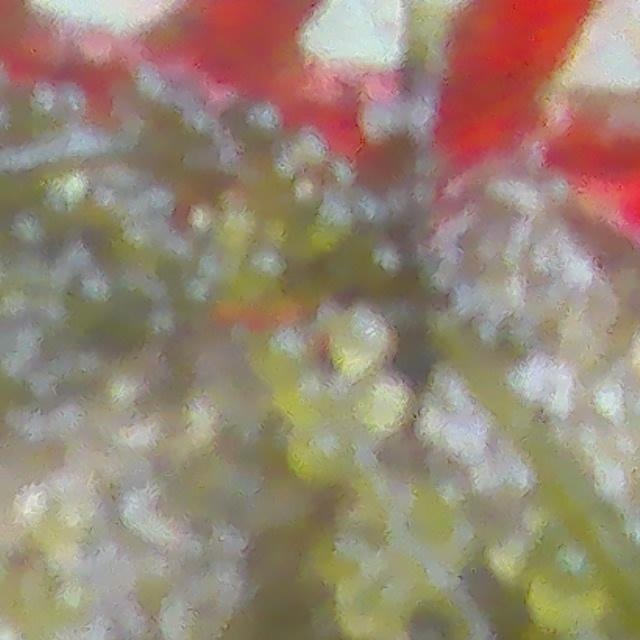SeaGrape: (329, 310, 390, 372), (353, 376, 410, 435)
